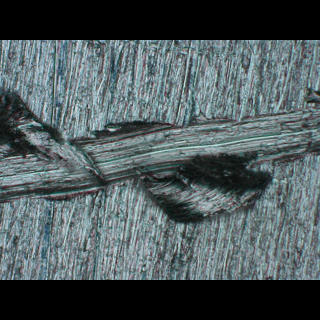d: (0, 83, 319, 229)
